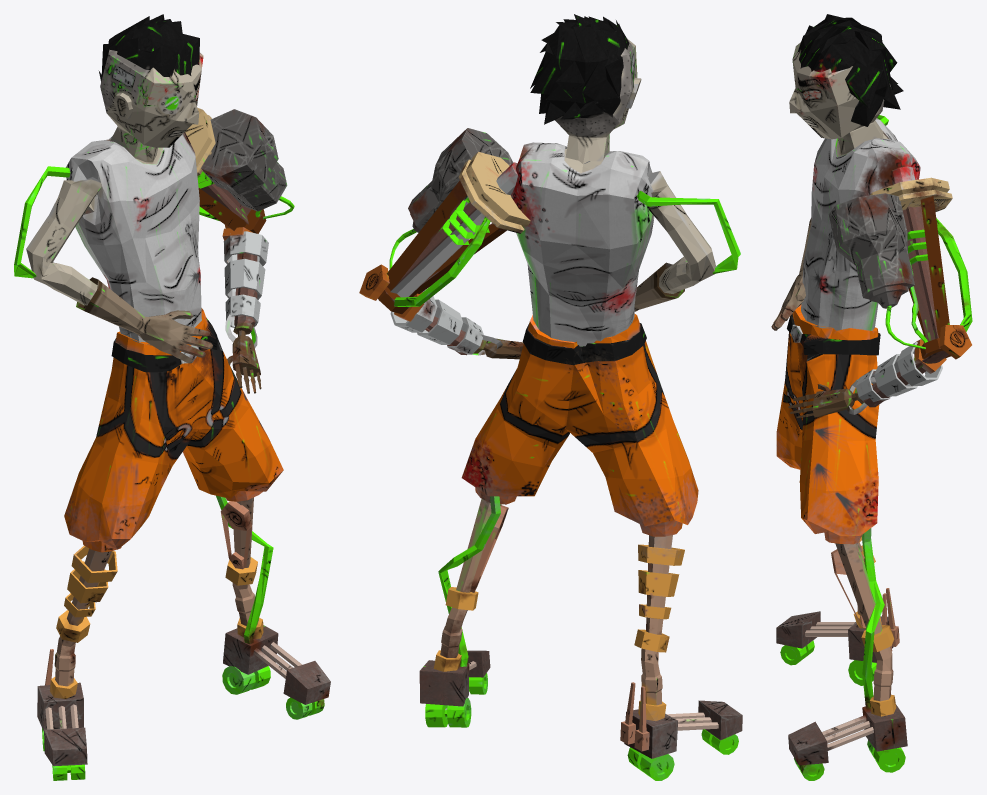
The model's file is CyborgFINALAnimation_000007.obj.
3 renders of one model, left to right at view 1: azimuth 30°, elevation 25°; view 2: azimuth 150°, elevation 25°; view 3: azimuth 270°, elevation 25°, orthographic. The views are drawn at different scales.
Visible parts, largest first — view 1: CyborgMesh_Cube.002; view 2: CyborgMesh_Cube.002; view 3: CyborgMesh_Cube.002.
Part boxes in pixels (x1,y1,x2,y2): CyborgMesh_Cube.002: [14, 14, 330, 780]; CyborgMesh_Cube.002: [359, 14, 742, 780]; CyborgMesh_Cube.002: [771, 14, 972, 780].
Bounding box in the file's own units: 4.34 × 9.61 × 2.51.
